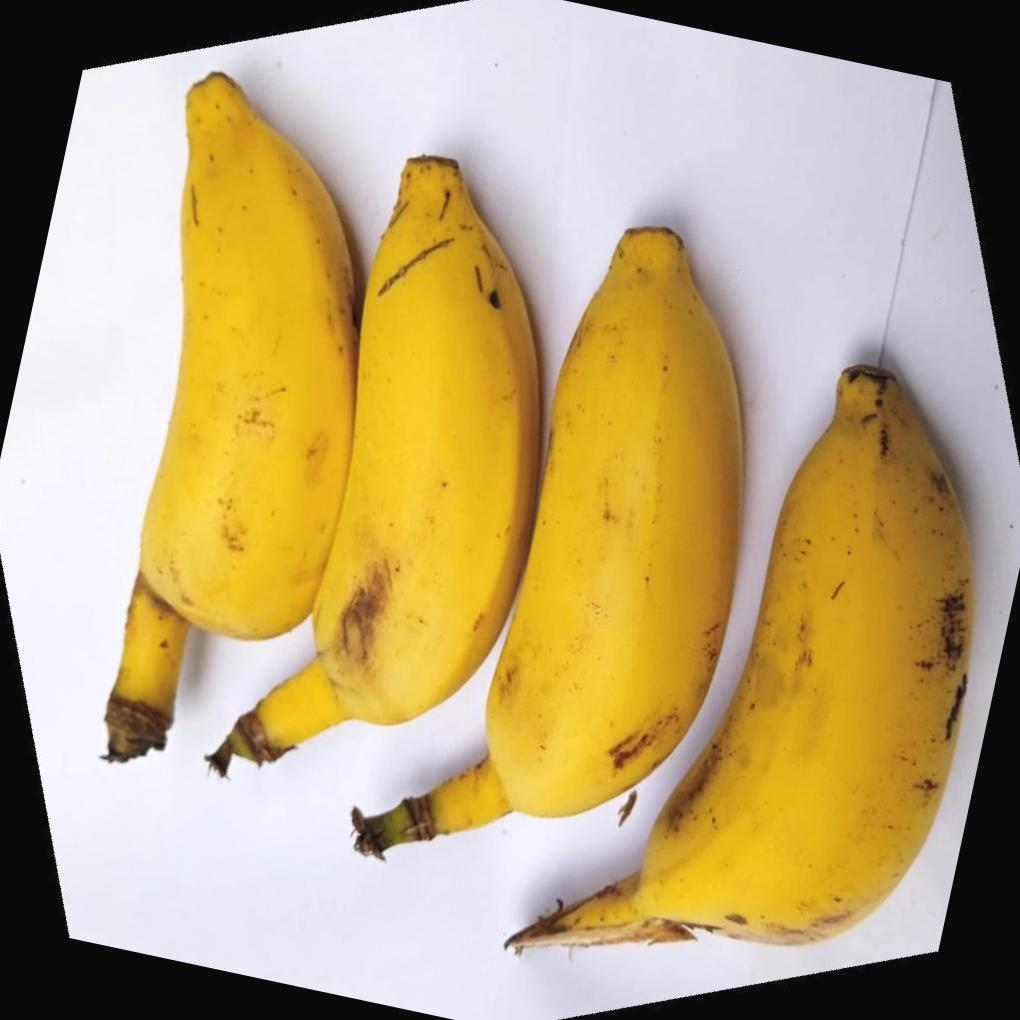Banana Ripe: (219, 42, 628, 871), (21, 49, 432, 813), (415, 164, 815, 943), (602, 278, 1020, 1020)
